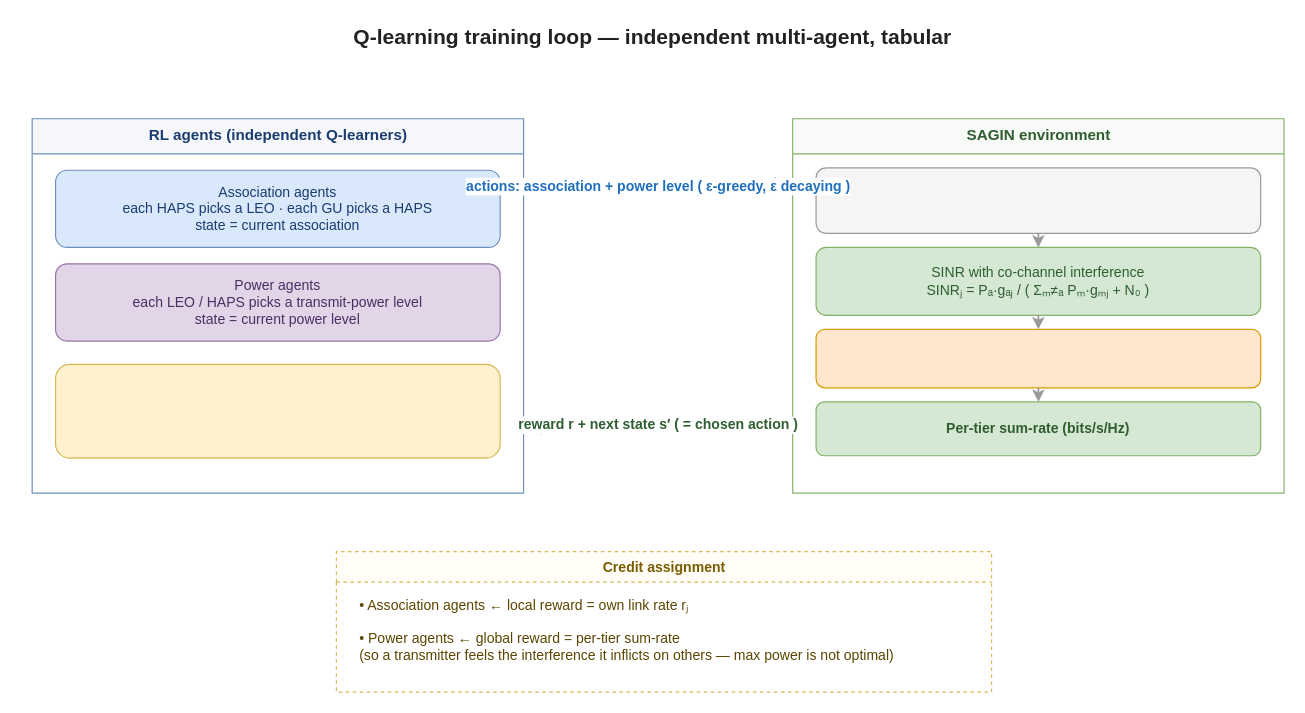
Some shapes in this 1305 by 713 pixel diagram are drawn without their labels. Each missing label, with the centre of its shape:
"Channel model gain = −FSPL + antenna gain, Rayleigh fading (resampled each step)" belongs at (1038,200).
"Intra-cell equal load sharing rateⱼ = (1 / load) · log₂(1 + SINRⱼ)" belongs at (1038,358).
"Q-table update — Bellman Q(s,a) ← Q(s,a) + α [ r + γ·maxₐ′ Q(s′,a′) − Q(s,a) ]" belongs at (277,410).
